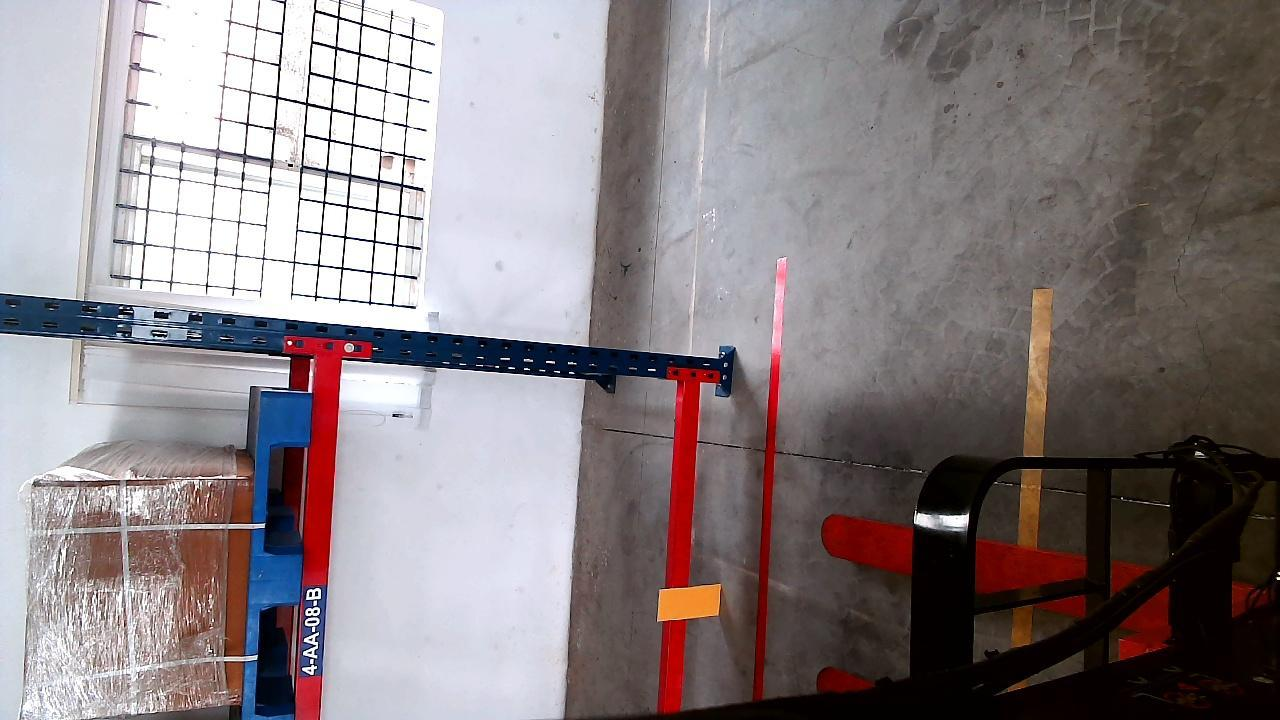red_line: (748, 258, 790, 700)
yellow_line: (1019, 284, 1050, 546)
